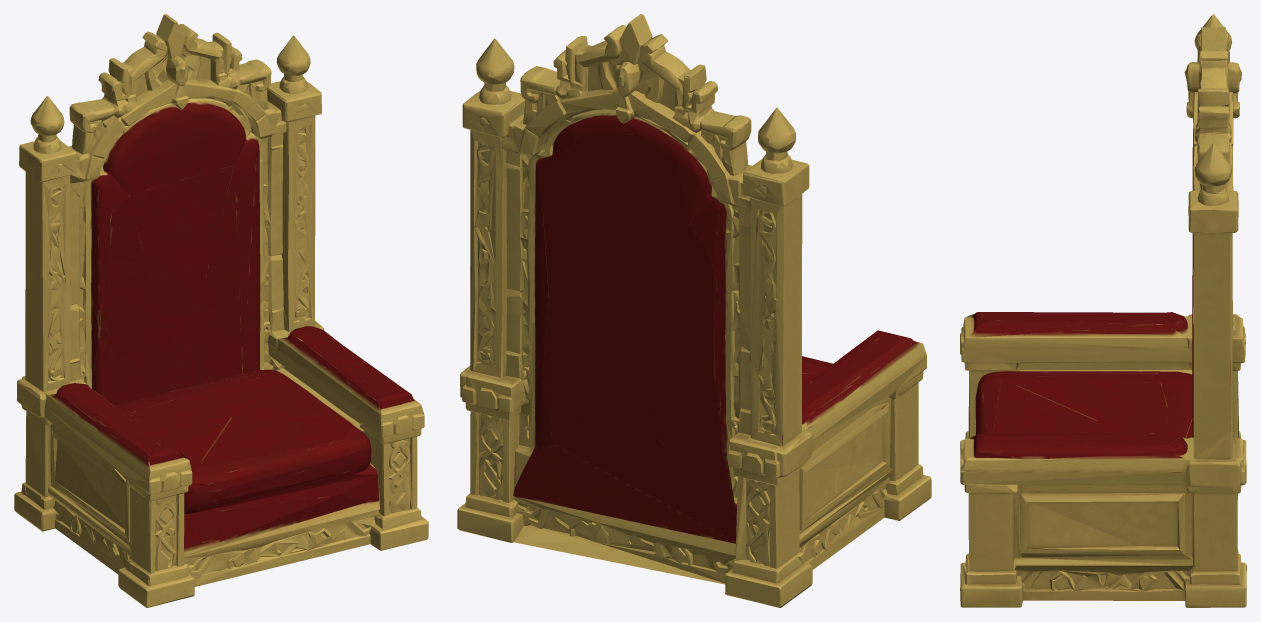
Rendered from throne.glb.
The picture shows the model from 3 angles, left to right: view 1: azimuth 30°, elevation 25°; view 2: azimuth 150°, elevation 25°; view 3: azimuth 270°, elevation 25°; orthographic projection. The views are drawn at different scales.
Bounding box in the file's own units: 1.21 × 1.9 × 0.9745.
Materials: 1 (1 with a texture image).
